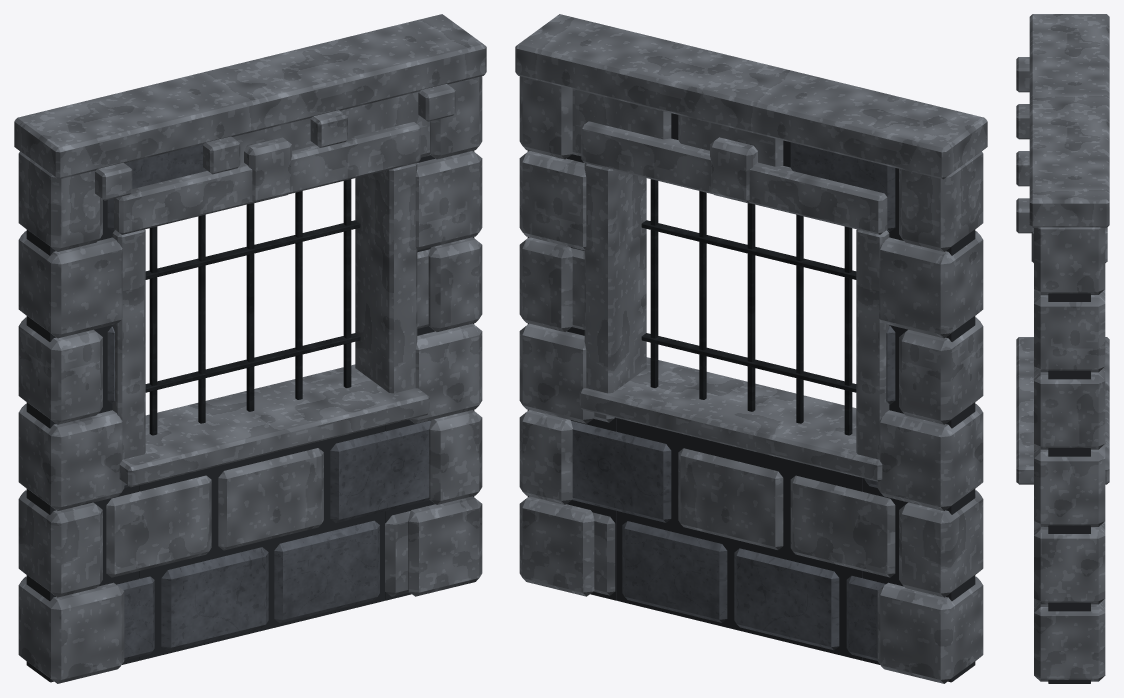
3 renders of one model, left to right at view 1: azimuth 30°, elevation 25°; view 2: azimuth 150°, elevation 25°; view 3: azimuth 270°, elevation 25°, orthographic. The views are drawn at different scales.
Visible parts, largest first — view 1: tooled-granite-edges, granite-ashlar, forged-iron-strapwork, mortar-joint-recess; view 2: tooled-granite-edges, granite-ashlar, mortar-joint-recess, forged-iron-strapwork; view 3: tooled-granite-edges, mortar-joint-recess.
Part boxes in pixels (left/top/right/bottom): tooled-granite-edges: left=14, top=14, right=486, bottom=683; granite-ashlar: left=94, top=144, right=430, bottom=659; forged-iron-strapwork: left=145, top=179, right=360, bottom=435; mortar-joint-recess: left=26, top=150, right=474, bottom=682; tooled-granite-edges: left=515, top=14, right=987, bottom=683; granite-ashlar: left=571, top=142, right=907, bottom=660; mortar-joint-recess: left=527, top=113, right=975, bottom=682; forged-iron-strapwork: left=641, top=179, right=856, bottom=435; tooled-granite-edges: left=1016, top=14, right=1109, bottom=681; mortar-joint-recess: left=1048, top=293, right=1090, bottom=683.
Bounding box in the file's own units: 2 × 2.4 × 0.42.
Materials: 4 (3 with a texture image).
